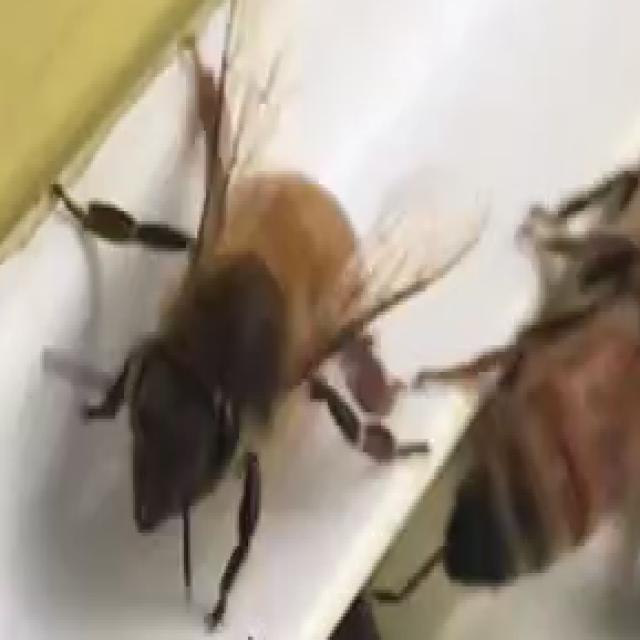honeybee: (67, 86, 455, 550), (391, 148, 640, 640)
